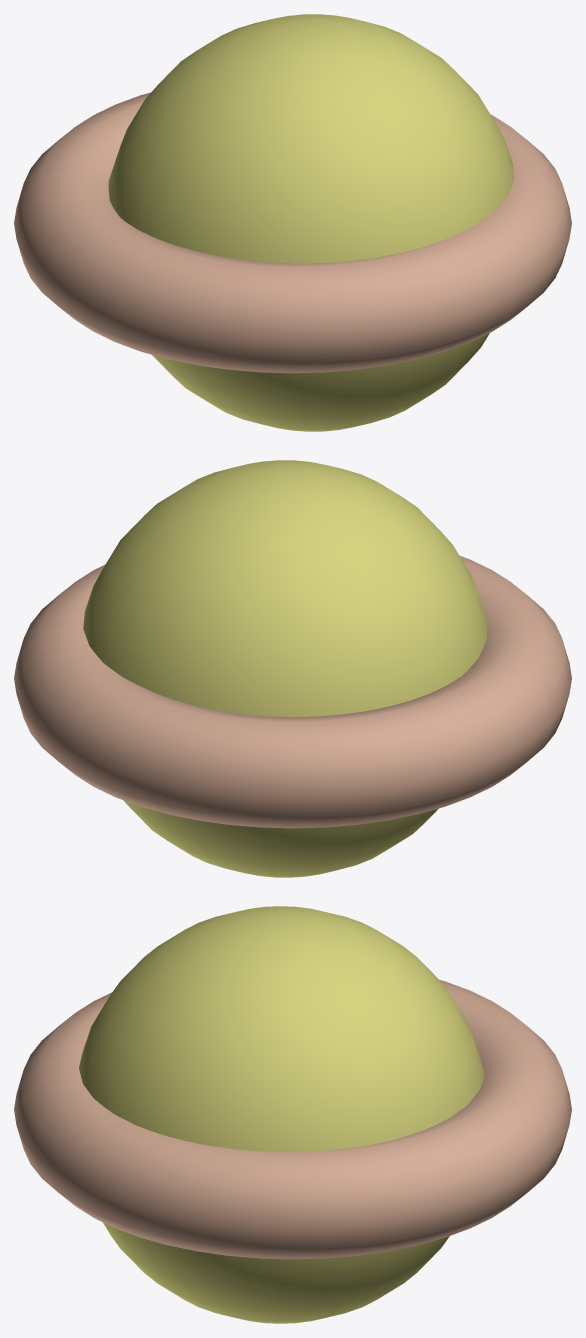
File: HackPinkSaturn.fbx
The picture shows the model from 3 angles, top to bottom: view 1: azimuth 30°, elevation 25°; view 2: azimuth 150°, elevation 25°; view 3: azimuth 270°, elevation 25°; orthographic projection.
Visible parts, largest first — view 1: Sphere, Torus; view 2: Sphere, Torus; view 3: Sphere, Torus.
Part boxes in pixels (<box>): Sphere: <box>108,14,513,431</box>; Torus: <box>14,92,571,373</box>; Sphere: <box>83,460,487,877</box>; Torus: <box>14,556,571,828</box>; Sphere: <box>79,906,484,1323</box>; Torus: <box>14,980,571,1259</box>.
Bounding box in the file's own units: 711 × 533 × 711.
